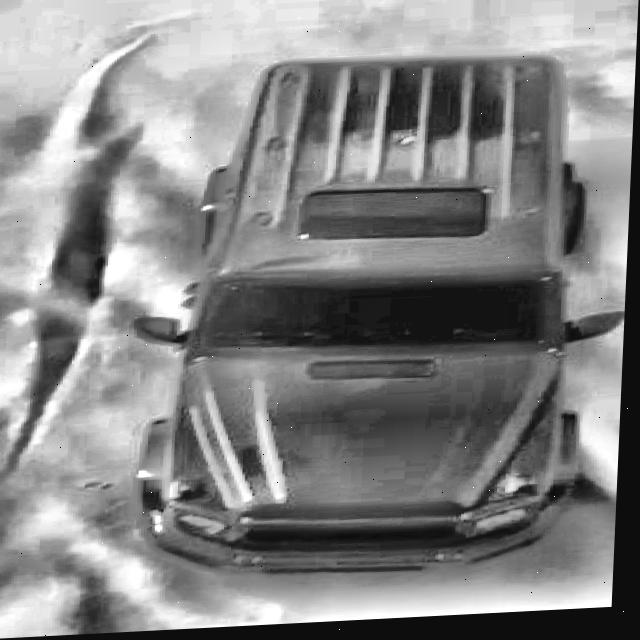light_vehicle: (100, 40, 631, 593)
